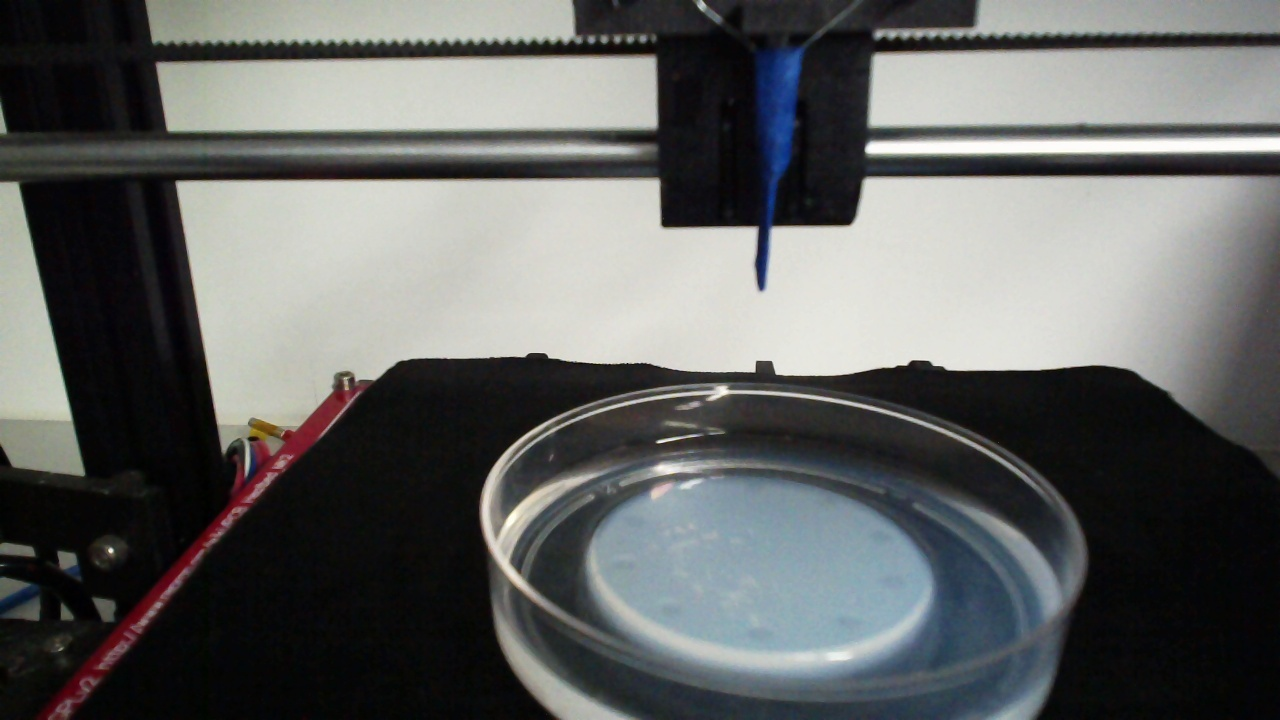groove: (652, 594, 686, 622), (875, 569, 912, 594), (743, 622, 778, 647), (738, 475, 773, 500), (605, 554, 638, 579), (866, 524, 896, 551), (834, 611, 867, 634), (813, 490, 844, 514), (618, 510, 649, 531)
needle: (754, 52, 801, 292)
